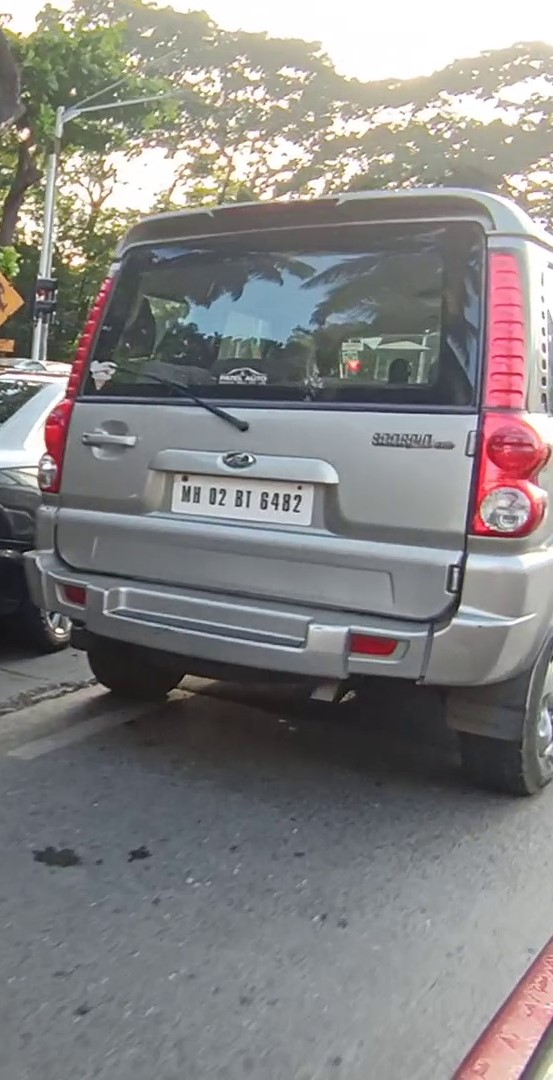MH02BT6482: (170, 473, 314, 525)
